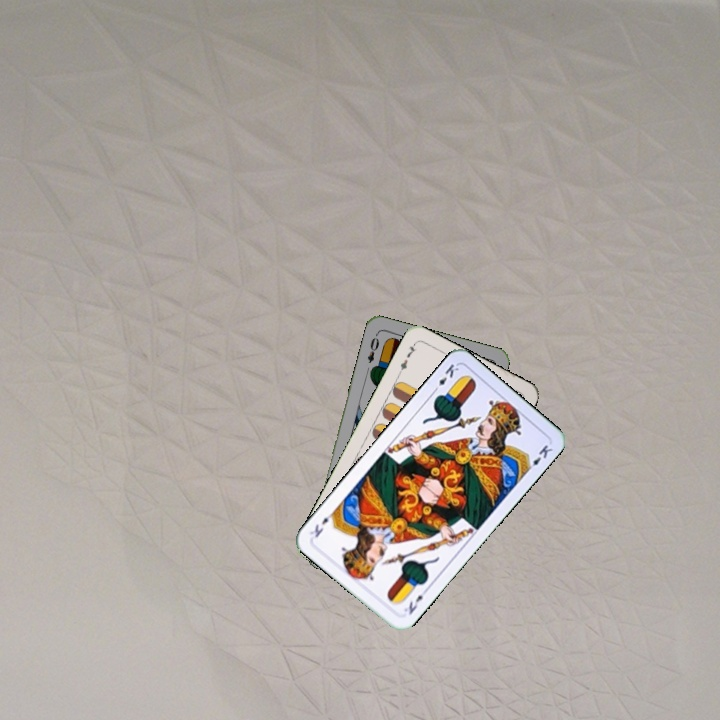E7: (395, 339, 419, 377)
EK: (429, 359, 461, 395), (400, 584, 431, 617)
EO: (363, 330, 382, 366)
